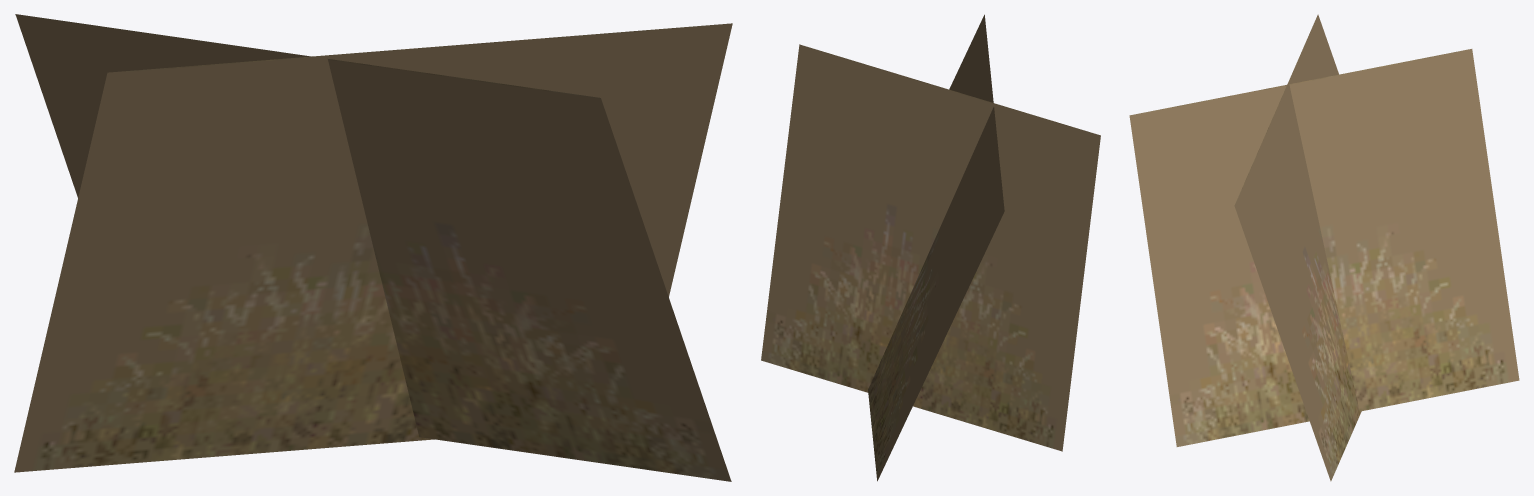
The model's file is reed_beach_a.glb.
The picture shows the model from 3 angles, left to right: view 1: azimuth 30°, elevation 25°; view 2: azimuth 150°, elevation 25°; view 3: azimuth 270°, elevation 25°; orthographic projection. The views are drawn at different scales.
Bounding box in the file's own units: 4.98 × 4.12 × 4.74.
1 material, 1 textured.
